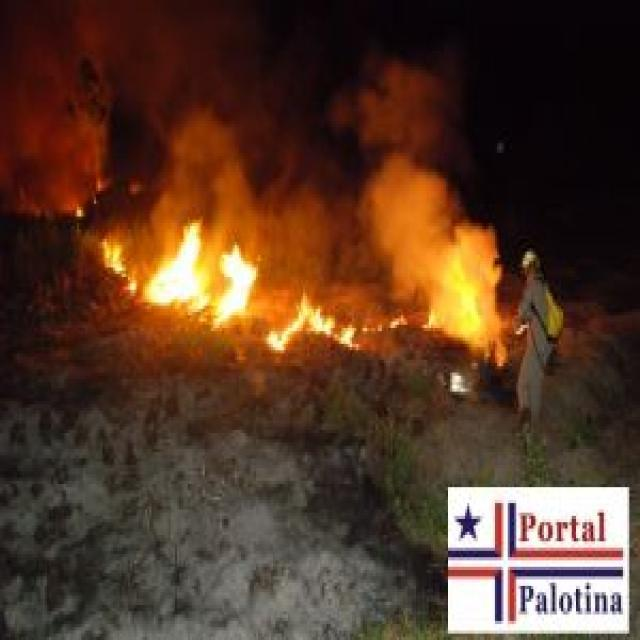Fire: (141, 220, 256, 332), (266, 290, 356, 363), (96, 236, 126, 280)
Smoke: (352, 48, 443, 282)
